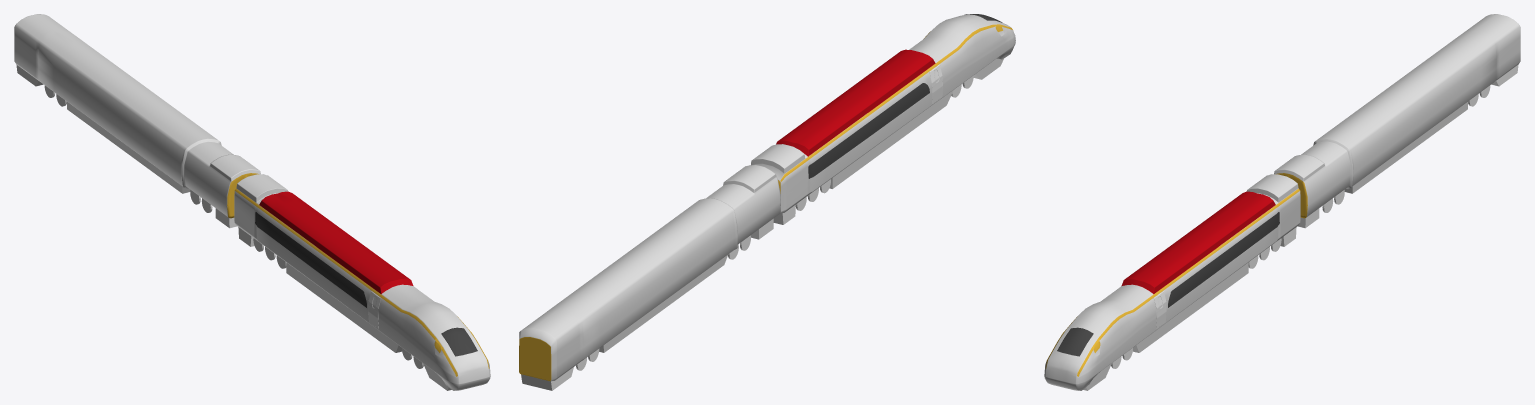
The model's file is Virgin Train.fbx.
3 renders of one model, left to right at view 1: azimuth 30°, elevation 25°; view 2: azimuth 150°, elevation 25°; view 3: azimuth 330°, elevation 25°, orthographic. The views are drawn at different scales.
Visible parts, largest first — view 1: CUERPO, CUERPO.002, BASE.001, BASE, RUEDAS, VENTANA FRONTAL; view 2: CUERPO.002, CUERPO, BASE.001, BASE, RUEDAS; view 3: CUERPO, CUERPO.002, BASE.001, BASE, RUEDAS, VENTANA FRONTAL.
Part boxes in pixels (left/top/right/bottom): CUERPO: left=234, top=174, right=490, bottom=390; CUERPO.002: left=14, top=14, right=260, bottom=218; BASE.001: left=238, top=227, right=451, bottom=390; BASE: left=16, top=64, right=236, bottom=228; RUEDAS: left=44, top=85, right=423, bottom=368; VENTANA FRONTAL: left=441, top=327, right=477, bottom=356; CUERPO.002: left=519, top=165, right=780, bottom=381; CUERPO: left=751, top=14, right=1015, bottom=213; BASE.001: left=773, top=58, right=1003, bottom=224; BASE: left=521, top=218, right=773, bottom=390; RUEDAS: left=576, top=75, right=973, bottom=370; CUERPO: left=1044, top=174, right=1300, bottom=390; CUERPO.002: left=1274, top=14, right=1520, bottom=218; BASE.001: left=1083, top=227, right=1296, bottom=390; BASE: left=1298, top=64, right=1518, bottom=228; RUEDAS: left=1111, top=85, right=1490, bottom=368; VENTANA FRONTAL: left=1057, top=327, right=1093, bottom=356.
Size of the model in its own units: 200 by 264 by 3595.
